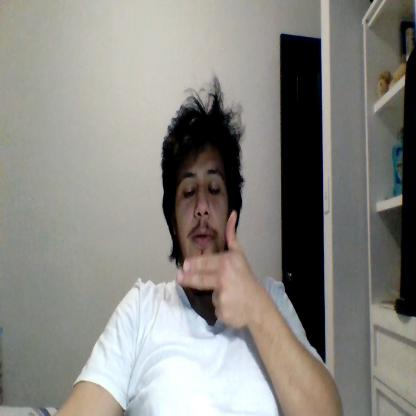H: (175, 210, 252, 329)
